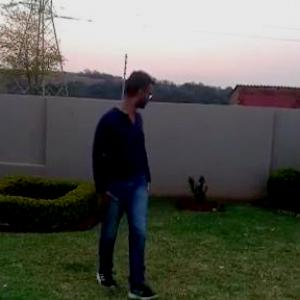follow: (91, 67, 158, 266)
